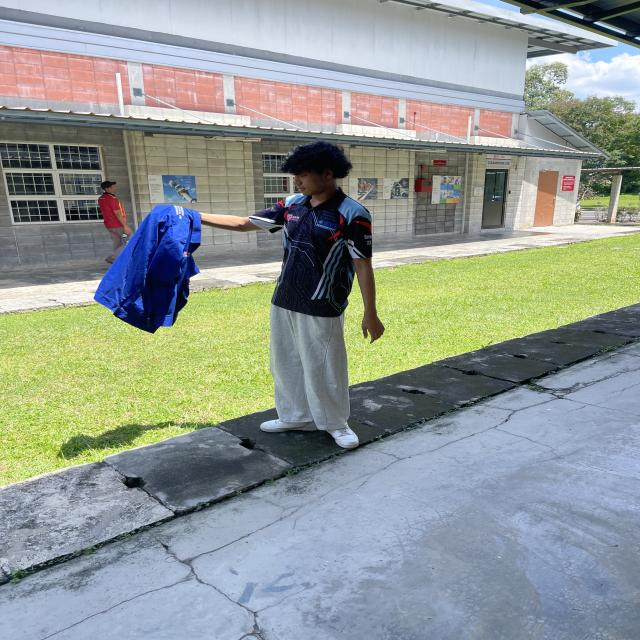person_without_labcoat: (95, 142, 384, 449)
